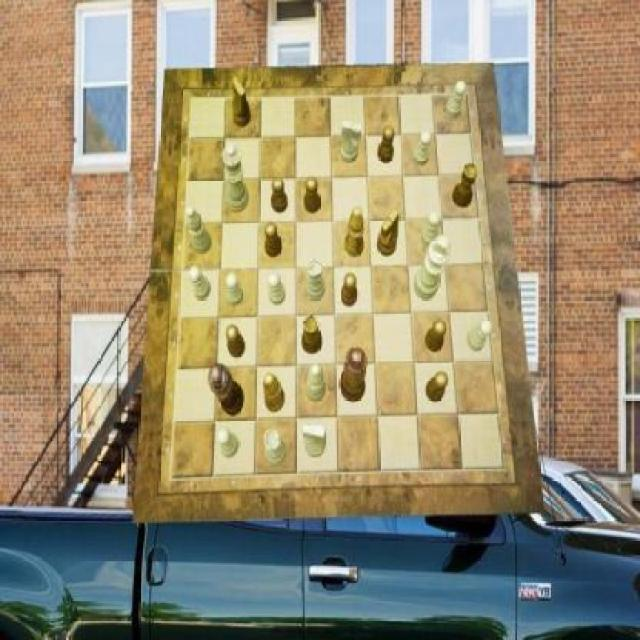bishop: (344, 208, 364, 258), (263, 374, 285, 414)
black-bishop: (208, 363, 244, 417)
black-king: (377, 209, 400, 257), (232, 77, 252, 128)
black-knight: (425, 318, 447, 352), (424, 371, 448, 402), (377, 126, 395, 164), (226, 324, 246, 358), (304, 177, 322, 213), (265, 222, 282, 258), (270, 179, 288, 213), (342, 272, 358, 307)
black-pawn: (340, 348, 368, 402)
black-queen: (452, 163, 478, 209), (302, 314, 322, 354)
black-rook: (186, 206, 212, 254), (304, 363, 326, 402)
white-bishop: (414, 235, 451, 301)
white-king: (340, 120, 362, 164), (303, 423, 327, 458)
white-knight: (468, 318, 492, 352), (189, 265, 212, 299), (446, 82, 466, 120), (422, 211, 442, 248), (217, 428, 240, 458), (412, 131, 432, 165), (226, 274, 244, 308), (268, 272, 285, 306)
white-pawn: (223, 143, 251, 212)
white-queen: (306, 258, 326, 301), (265, 430, 287, 466)
